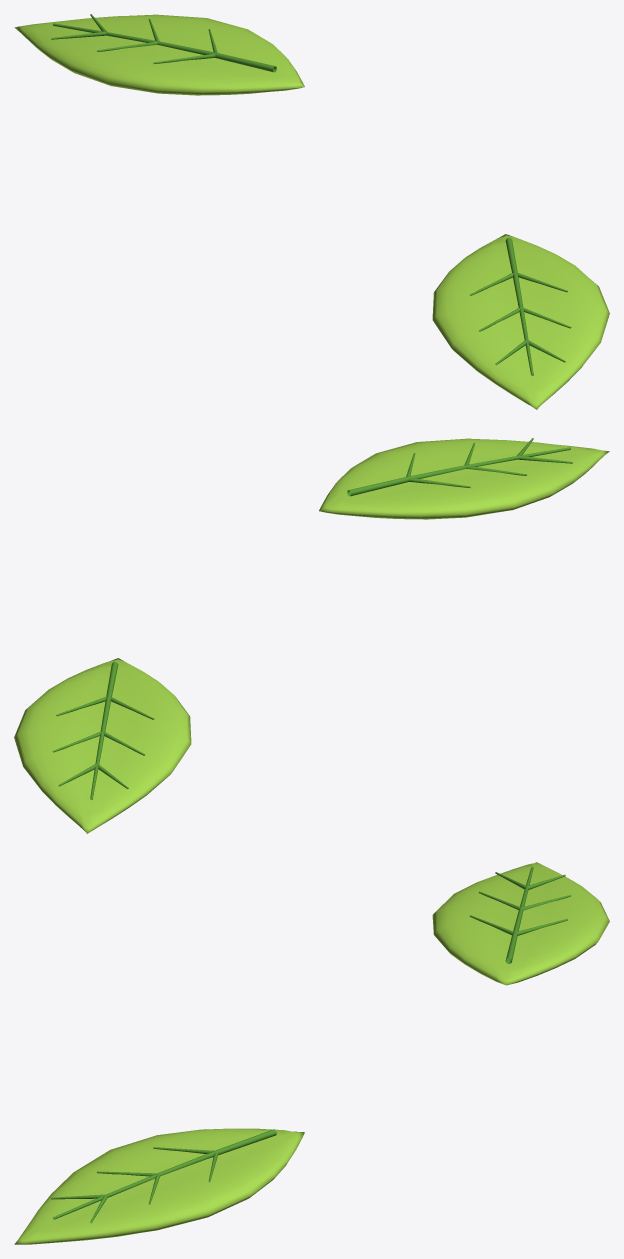
The model's file is scout-wings.glb.
3 views of the same model, one above another, from view 1: azimuth 30°, elevation 25°; view 2: azimuth 150°, elevation 25°; view 3: azimuth 330°, elevation 25° (orthographic).
Parts seen in each view (by area): view 1: scout-wings; view 2: scout-wings; view 3: scout-wings.
Boxes of the visible parts, x1,y1,x2,y2 form: scout-wings: (14, 14, 609, 409); scout-wings: (14, 438, 609, 833); scout-wings: (14, 862, 609, 1244).
Size of the model in its own units: 0.2575 by 0.0653 by 1.41.
